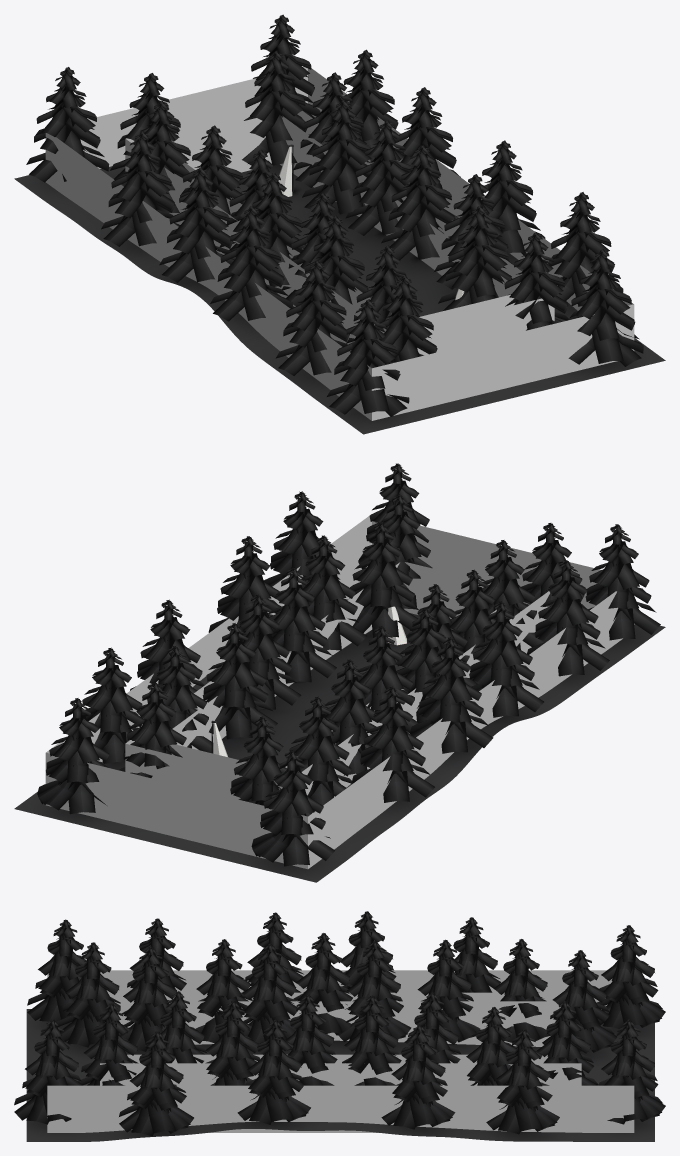
The model's file is OminousStreetTerrain.fbx.
The picture shows the model from 3 angles, top to bottom: view 1: azimuth 30°, elevation 25°; view 2: azimuth 150°, elevation 25°; view 3: azimuth 270°, elevation 25°; orthographic projection. The views are drawn at different scales.
Parts seen in each view (by area): view 1: LevelBorder, Terrain, FogBoarderOuter, FogBorderInner, Tree.027, Tree.025, Tree.002, Tree.018, Tree.012, Tree.019, Tree.028, Tree.016 (+21 smaller); view 2: LevelBorder, Terrain, FogBoarderOuter, Tree.020, FogBorderInner, Tree.018, Tree.021, Tree.016, Tree.010, Tree.002, Tree.019, Tree.028 (+21 smaller); view 3: LevelBorder, Terrain, FogBoarderOuter, FogBorderInner, Tree.026, Tree.024, Tree.023, Tree.020, Tree.022, Tree.007, Tree.025, Tree (+21 smaller).
Boxes of the visible parts, bbox=[...] form: LevelBorder: bbox=[45, 66, 634, 420]; Terrain: bbox=[14, 164, 665, 434]; FogBoarderOuter: bbox=[125, 106, 554, 355]; FogBorderInner: bbox=[172, 116, 516, 326]; Tree.027: bbox=[327, 299, 409, 416]; Tree.025: bbox=[568, 249, 643, 366]; Tree.002: bbox=[210, 206, 292, 321]; Tree.018: bbox=[159, 167, 236, 282]; Tree.012: bbox=[381, 145, 455, 259]; Tree.019: bbox=[101, 131, 179, 246]; Tree.028: bbox=[275, 260, 352, 375]; Tree.016: bbox=[302, 99, 371, 214]; LevelBorder: bbox=[45, 516, 634, 869]; Terrain: bbox=[14, 613, 665, 882]; FogBoarderOuter: bbox=[125, 554, 549, 813]; Tree.020: bbox=[251, 750, 334, 866]; FogBorderInner: bbox=[170, 562, 520, 769]; Tree.018: bbox=[410, 637, 493, 753]; Tree.021: bbox=[37, 698, 109, 814]; Tree.016: bbox=[202, 623, 277, 739]; Tree.010: bbox=[349, 522, 420, 637]; Tree.002: bbox=[469, 601, 543, 717]; Tree.019: bbox=[352, 686, 434, 802]; Tree.028: bbox=[527, 560, 609, 676]; LevelBorder: bbox=[47, 970, 634, 1132]; Terrain: bbox=[26, 1009, 654, 1141]; FogBoarderOuter: bbox=[100, 992, 581, 1085]; FogBorderInner: bbox=[120, 1001, 560, 1063]; Tree.026: bbox=[119, 1031, 193, 1136]; Tree.024: bbox=[237, 1019, 310, 1124]; Tree.023: bbox=[381, 1024, 455, 1129]; Tree.020: bbox=[596, 925, 665, 1028]; Tree.022: bbox=[486, 1029, 559, 1134]; Tree.007: bbox=[56, 942, 120, 1047]; Tree.025: bbox=[14, 1019, 81, 1124]; Tree: bbox=[242, 943, 298, 1043].
Size of what is drawn, in the model's own units: 6682 by 2372 by 12446.
